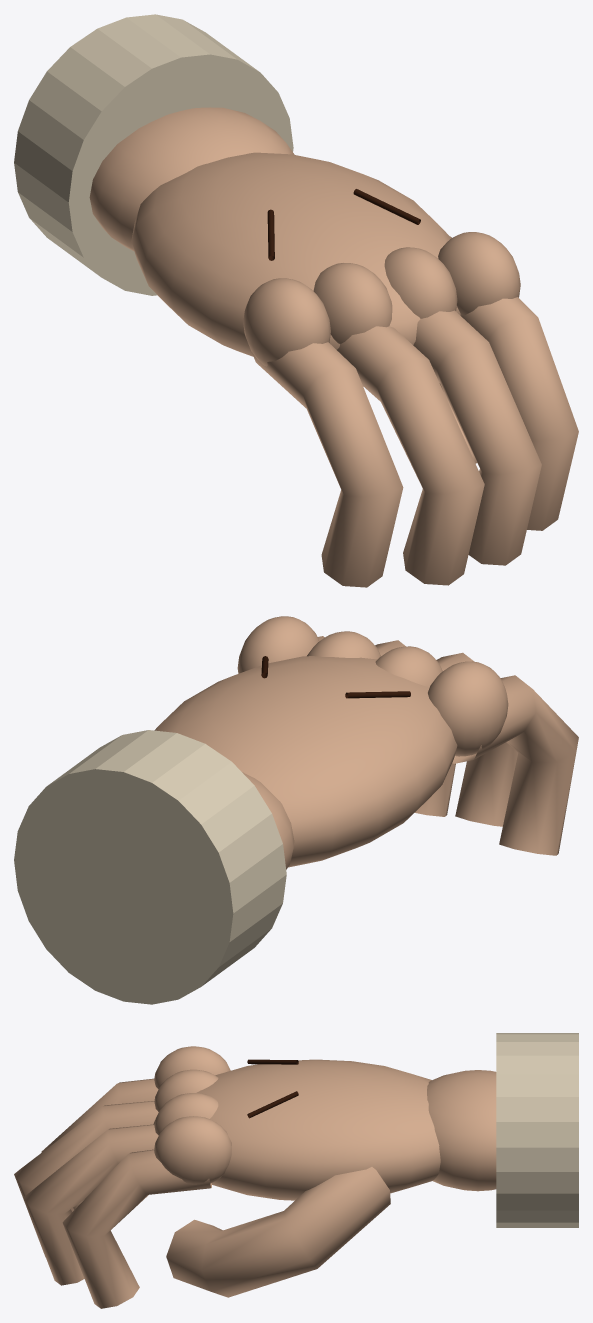
File: HandL.fbx
3 views of the same model, one above another, from view 1: azimuth 30°, elevation 25°; view 2: azimuth 150°, elevation 25°; view 3: azimuth 270°, elevation 25° (orthographic). The views are drawn at different scales.
Parts seen in each view (by area): view 1: HandLMesh; view 2: HandLMesh; view 3: HandLMesh.
Boxes of the visible parts, x1,y1,x2,y2 form: HandLMesh: [14, 14, 578, 587]; HandLMesh: [14, 616, 578, 1004]; HandLMesh: [14, 1033, 578, 1308].
Bounding box in the file's own units: 9.33 × 8.2 × 18.47.
Materials: 3 (1 with a texture image).
